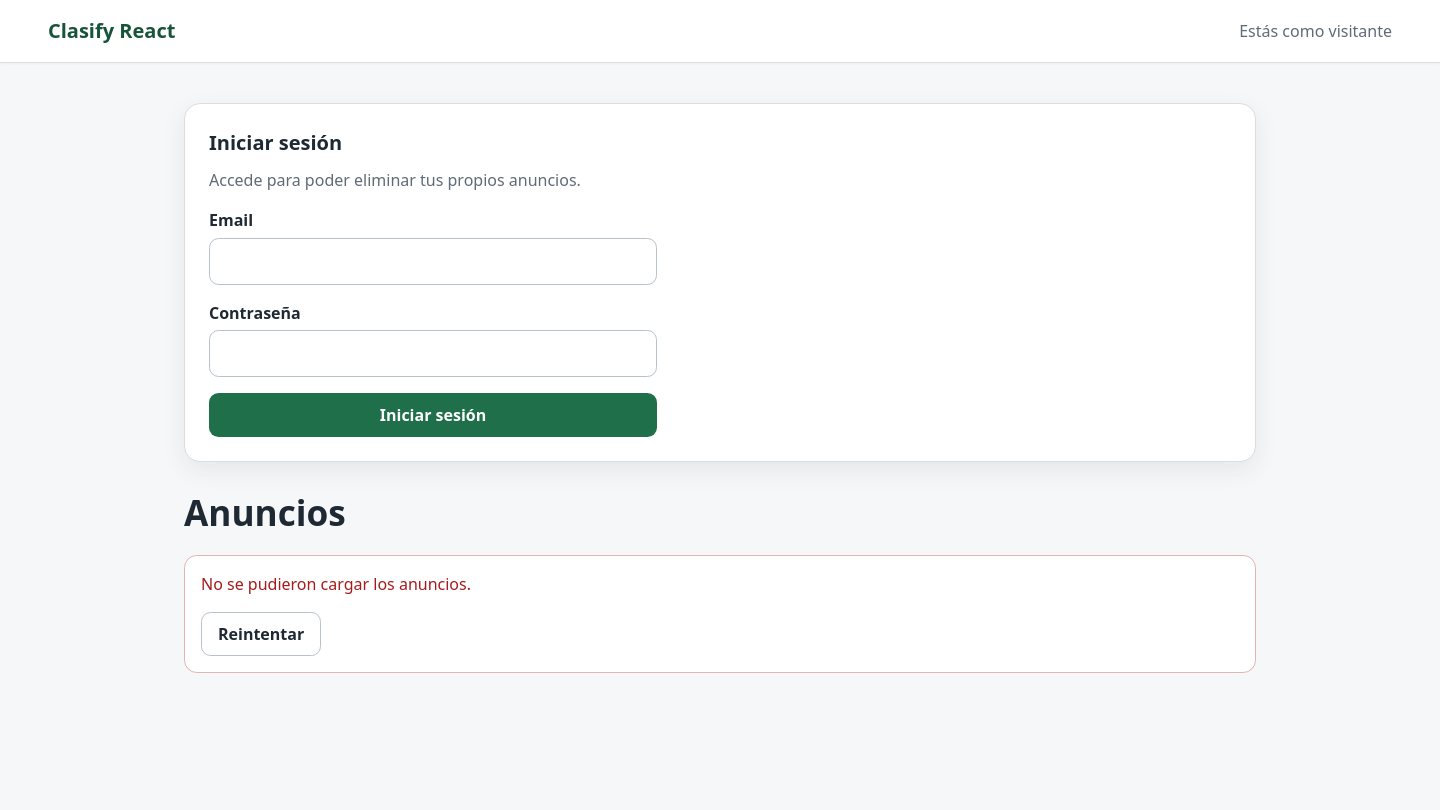
it: listado de anuncios › muestra un error comprensible y permite reintentar
Expected: the text "No se pudieron cargar los anuncios." is shown, [201, 573, 471, 595]
Click the button "Reintentar". click: x=261, y=634
box: [201, 612, 321, 656]
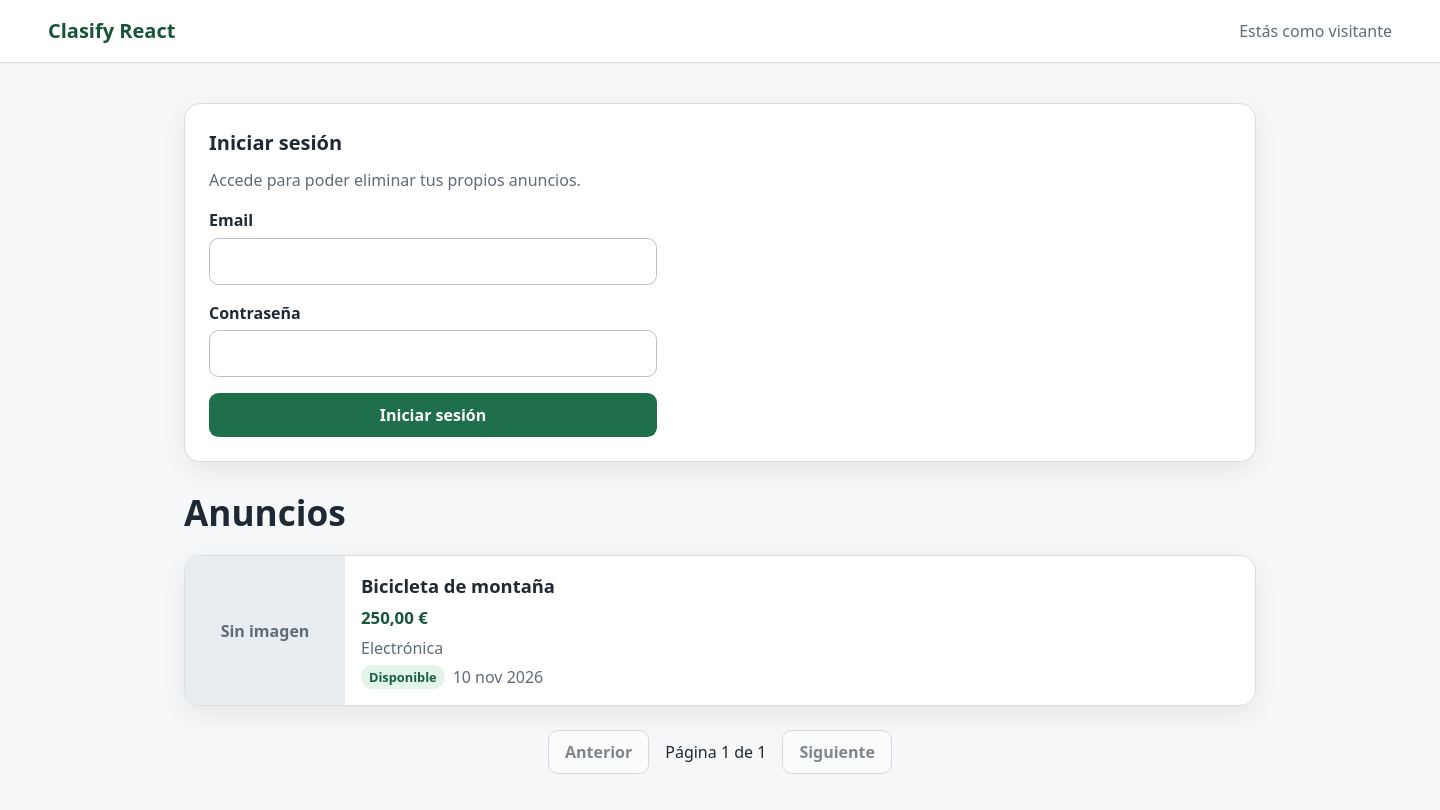
Now the heading "Bicicleta de montaña" is shown, box [361, 573, 555, 598]
